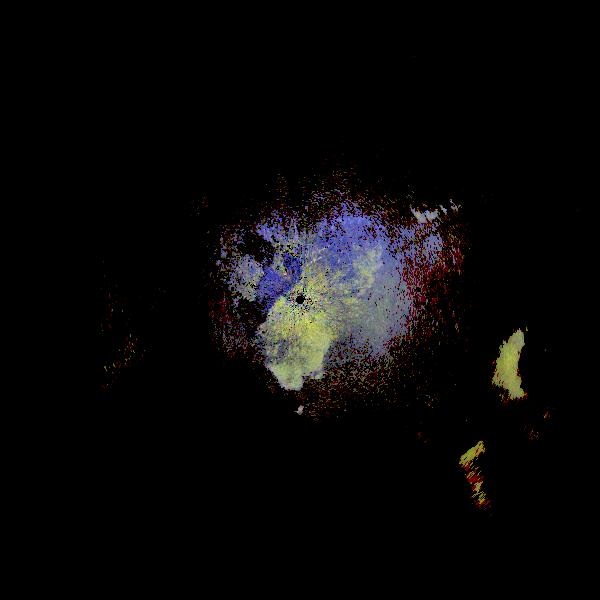roost: (441, 394, 600, 574), (473, 296, 600, 452), (236, 296, 356, 416)
